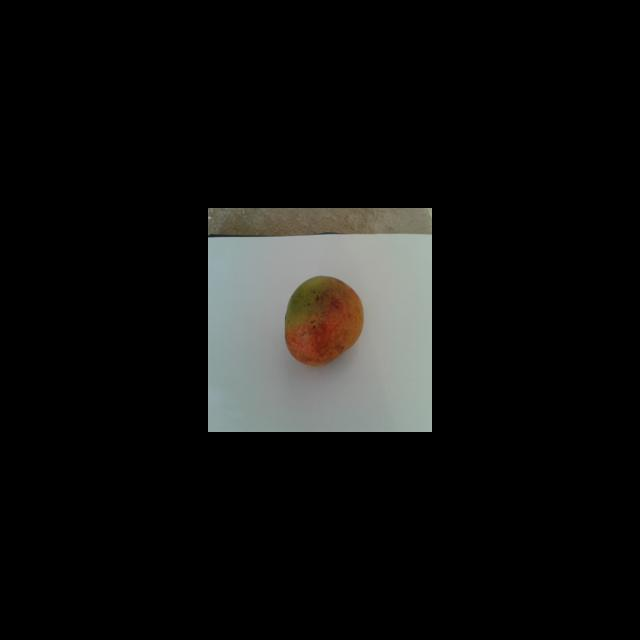Mango: (284, 274, 364, 366)
